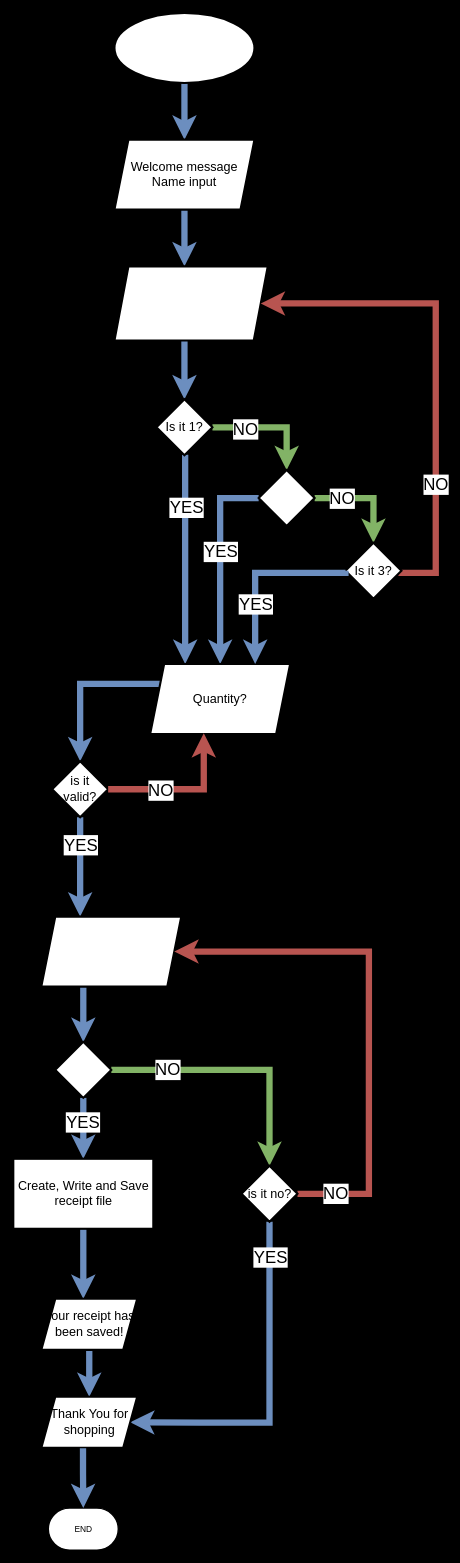
Some shapes in this 460 by 1563 pixel diagram are drawn without their labels. The centre of each missing label's shape, as x and y in pixels:
"1-London (£10.15) 2-Birmingham (£22.50) 3-Manchester (£21.40)" goes at point (190, 303).
"Display Receipt/ Would you like to print?" goes at point (111, 951).
"Is it 2?" goes at point (286, 498).
"is it yes?" goes at point (83, 1069).
"START" goes at point (184, 48).
